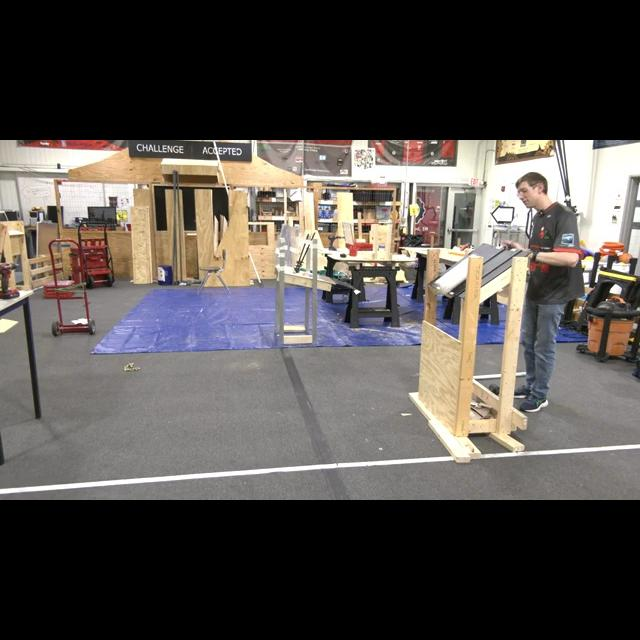CORAL: (435, 254, 481, 296)
